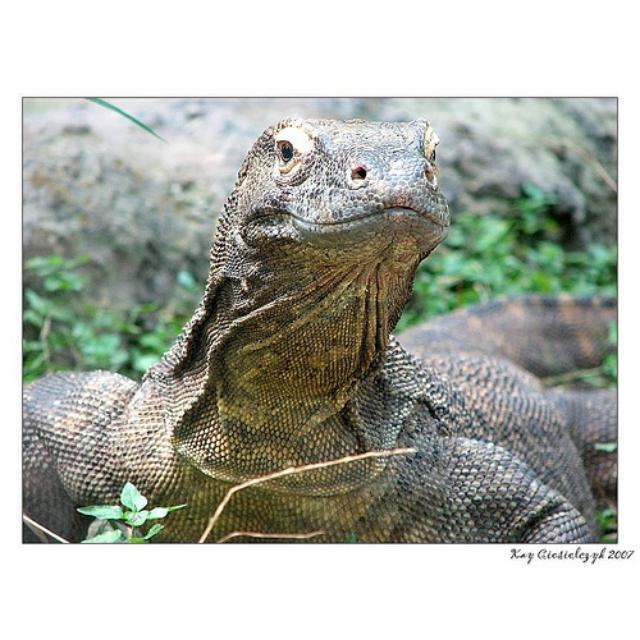KomodoDragon: (21, 115, 614, 541)
